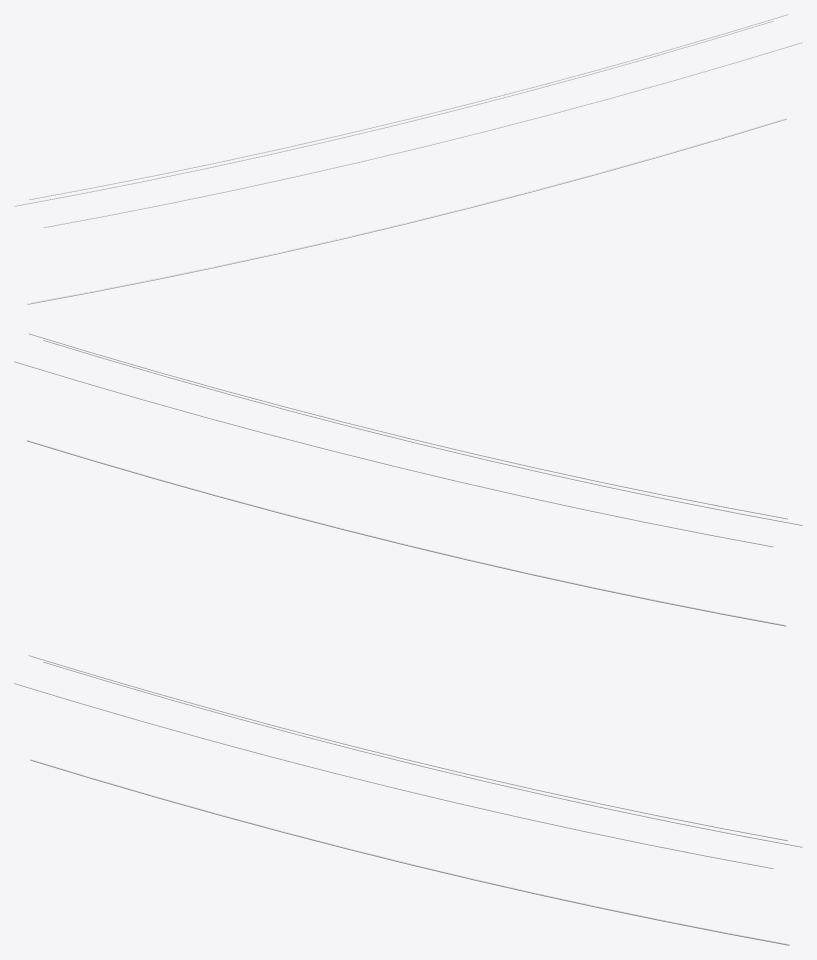
Rendered from utility_wires.gltf.
The picture shows the model from 3 angles, top to bottom: view 1: azimuth 30°, elevation 25°; view 2: azimuth 150°, elevation 25°; view 3: azimuth 330°, elevation 25°; orthographic projection.
Parts seen in each view (by area): view 1: utility_wires; view 2: utility_wires; view 3: utility_wires.
Part boxes in pixels (<box>): utility_wires: <box>14,14,802,304</box>; utility_wires: <box>14,333,802,626</box>; utility_wires: <box>14,655,802,945</box>.
Size of the model in its own units: 30 by 4.49 by 2.04.
1 material, 1 textured.
